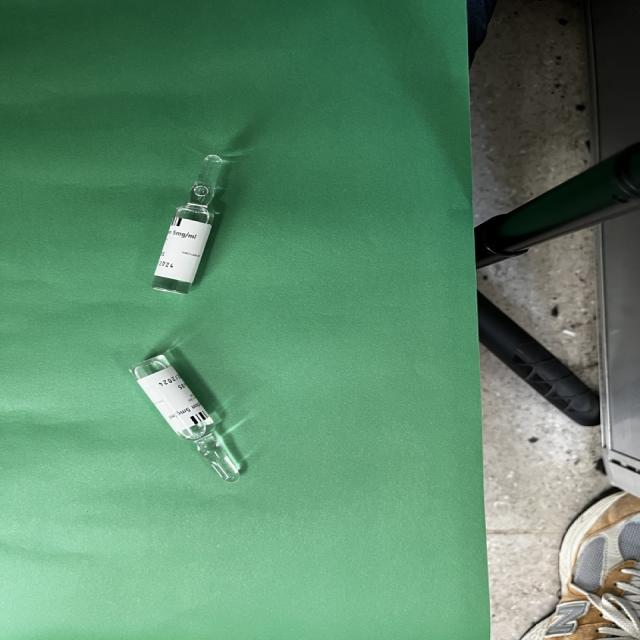Ampoules: (131, 354, 241, 482), (152, 154, 227, 294)
